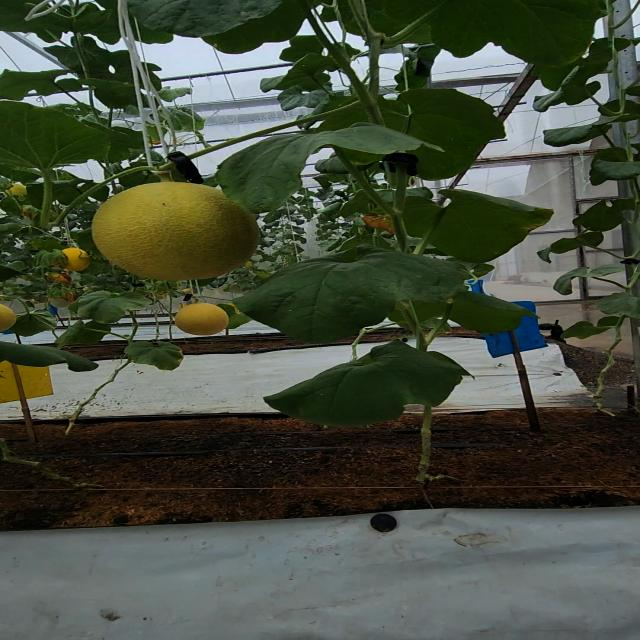Melon: (89, 180, 267, 290)
